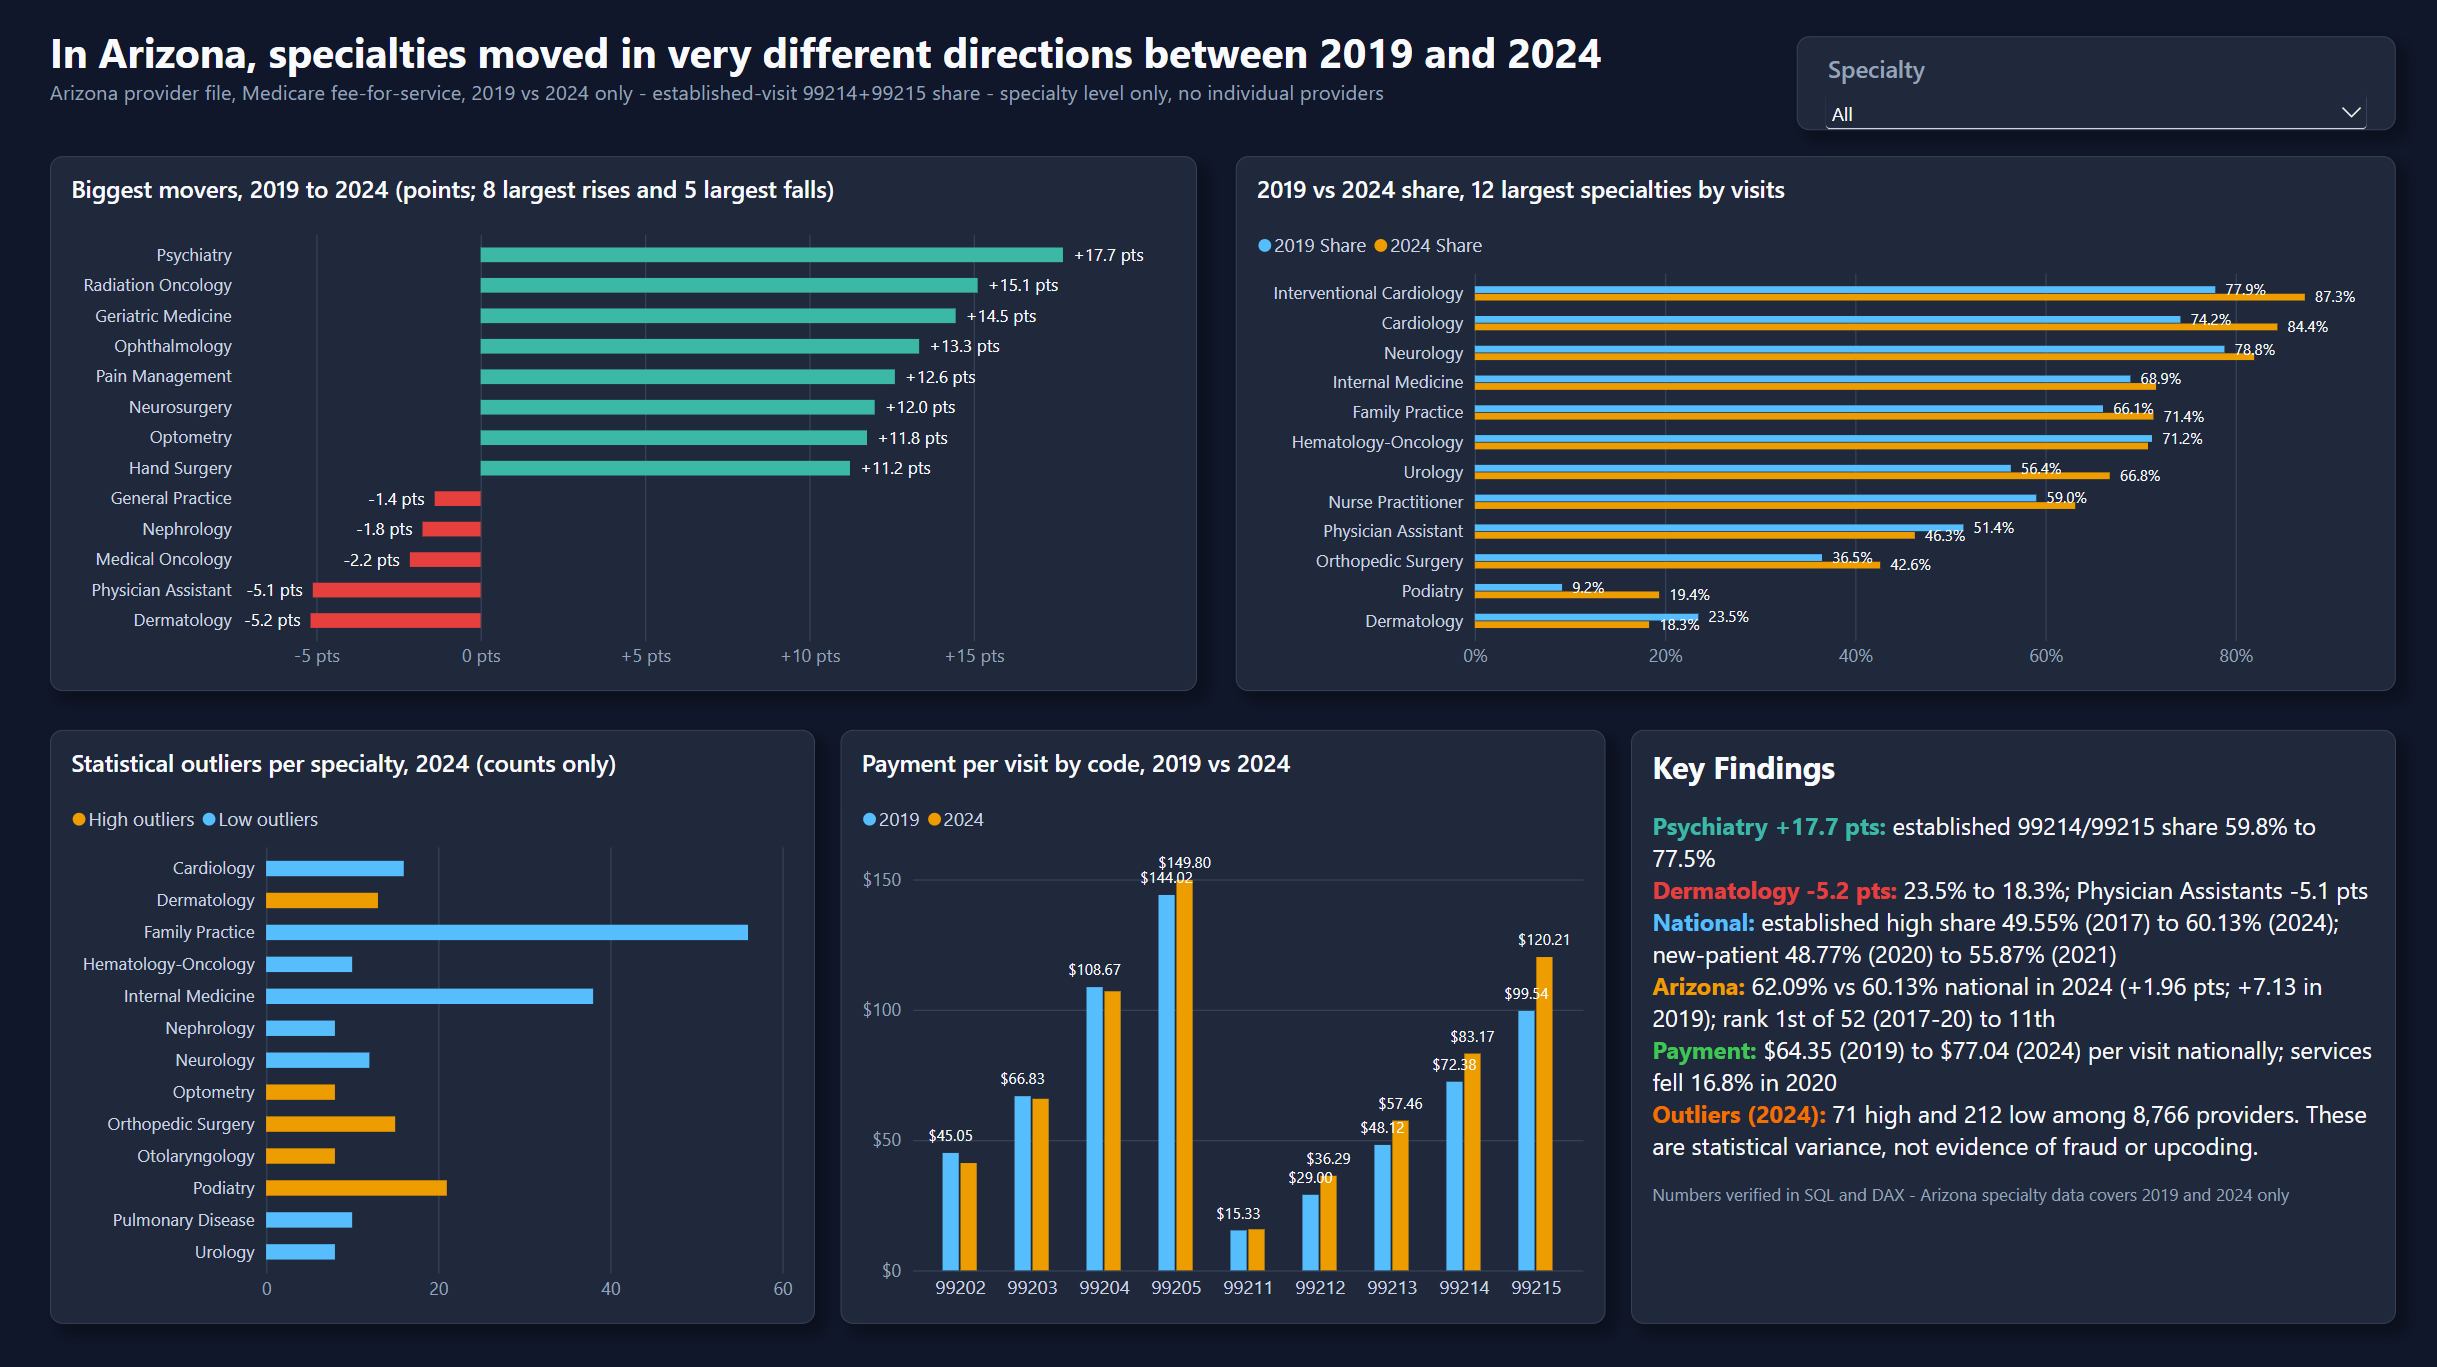

The dashboard page shown, as its layout file describes it:
{"tool":"powerbi","page":{"name":"Specialty Deep Dive (Arizona 2019 vs 2024)","canvas":[1920,1080],"ordinal":2},"visuals":[{"type":"textbox","box":[40,20,1340,84],"z":100},{"type":"slicer","fields":{"Values":["DimSpecialty.specialty"]},"box":[1410,30,470,74],"z":150},{"type":"clusteredBarChart","title":"Biggest movers, 2019 to 2024 (points; 8 largest rises and 5 largest falls)","fields":{"Category":["DimSpecialty.specialty"],"Y":["_Measures.Top Mover Change (pts)"]},"box":[40,124,900,420],"z":300},{"type":"clusteredBarChart","title":"2019 vs 2024 share, 12 largest specialties by visits","fields":{"Category":["DimSpecialty.specialty"],"Y":["_Measures.2019 Share","_Measures.2024 Share"]},"box":[970,124,910,420],"z":300},{"type":"barChart","title":"Statistical outliers per specialty, 2024 (counts only)","fields":{"Category":["DimSpecialty.specialty"],"Y":["_Measures.Outlier Count High","_Measures.Outlier Count Low"]},"box":[40,574,600,466],"z":300},{"type":"clusteredColumnChart","title":"Payment per visit by code, 2019 vs 2024","fields":{"Category":["DimEM.hcpcs_cd"],"Series":["DimYear.yr"],"Y":["_Measures.AZ Payment per Visit"]},"box":[660,574,600,466],"z":300},{"type":"textbox","box":[1280,574,600,466],"z":300}]}

Visuals, with their boxes in screenshot pixels (x1, y1, x2, y2), scaled from the page's 1920x1080 canvas onto the 2437x1367 screenshot:
textbox: left=51, top=25, right=1752, bottom=132
slicer - DimSpecialty.specialty: left=1790, top=38, right=2386, bottom=132
"Biggest movers, 2019 to 2024 (points; 8 largest rises and 5 largest falls)" clusteredBarChart: left=51, top=157, right=1193, bottom=689
"2019 vs 2024 share, 12 largest specialties by visits" clusteredBarChart: left=1231, top=157, right=2386, bottom=689
"Statistical outliers per specialty, 2024 (counts only)" barChart: left=51, top=727, right=812, bottom=1316
"Payment per visit by code, 2019 vs 2024" clusteredColumnChart: left=838, top=727, right=1599, bottom=1316
textbox: left=1625, top=727, right=2386, bottom=1316
